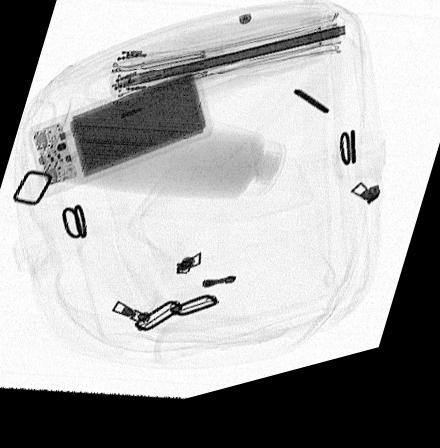Powerbank: (26, 80, 214, 202)
